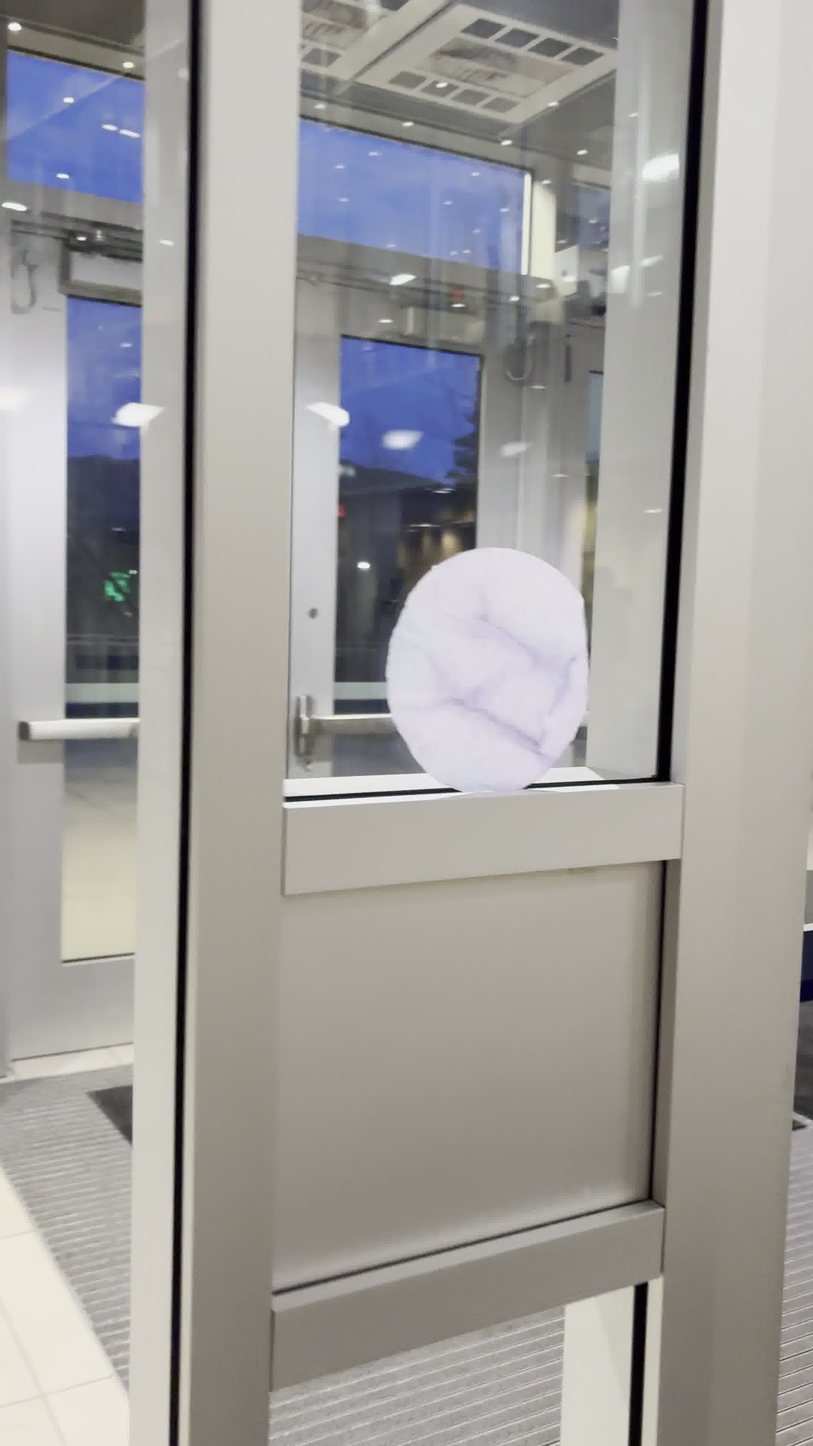Target: (385, 547, 587, 791)
